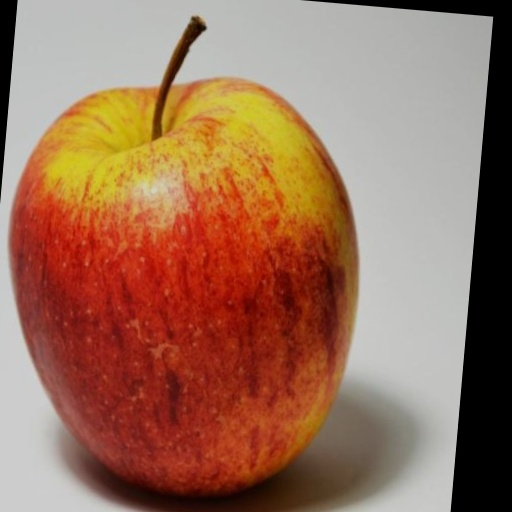fruit: (10, 79, 358, 495)
